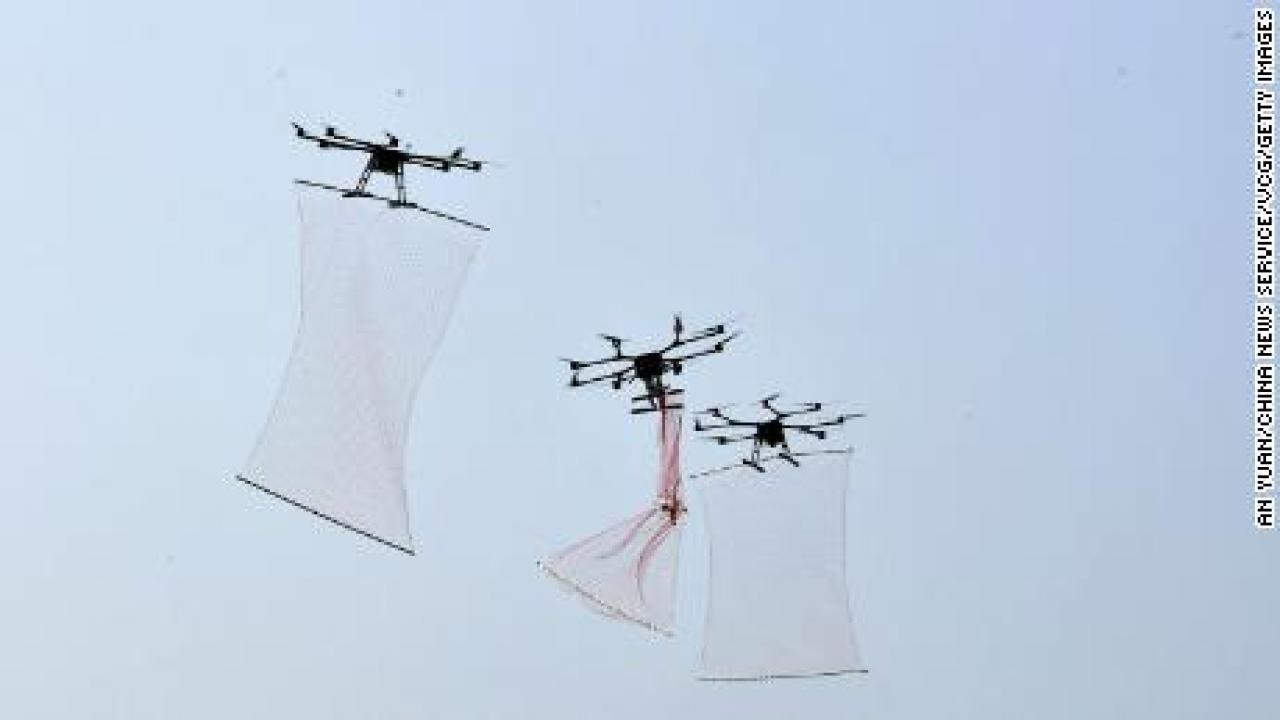Drone: (272, 97, 502, 224), (547, 296, 752, 419), (680, 381, 878, 483)
